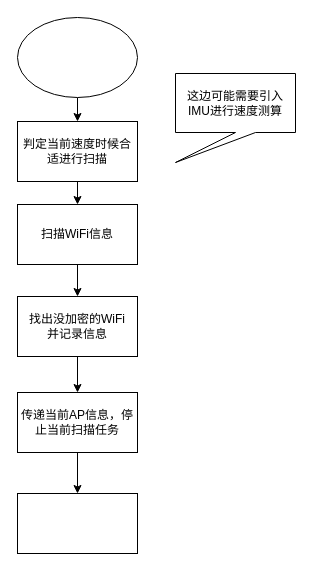
Image size: 313x571. Some labels were removed from this diagram. The centre of each missing label's shape, as x and y in pixels:
"在尝试连接任务中进行wifi连接" goes at (x=77, y=523).
"开始" goes at (x=77, y=57).
